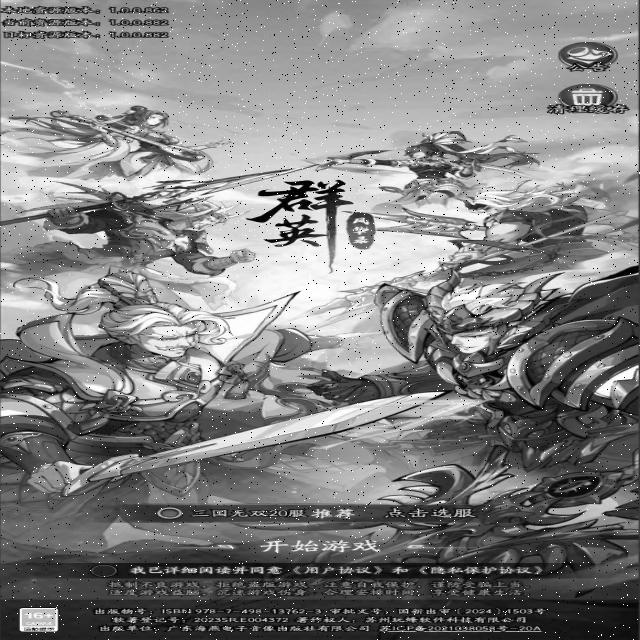operation-enter: (258, 538, 385, 553)
system-cleanUpCache: (552, 84, 632, 116)
system-notices: (558, 42, 617, 73)
system-protocol-box: (127, 564, 286, 577), (80, 562, 128, 580)
